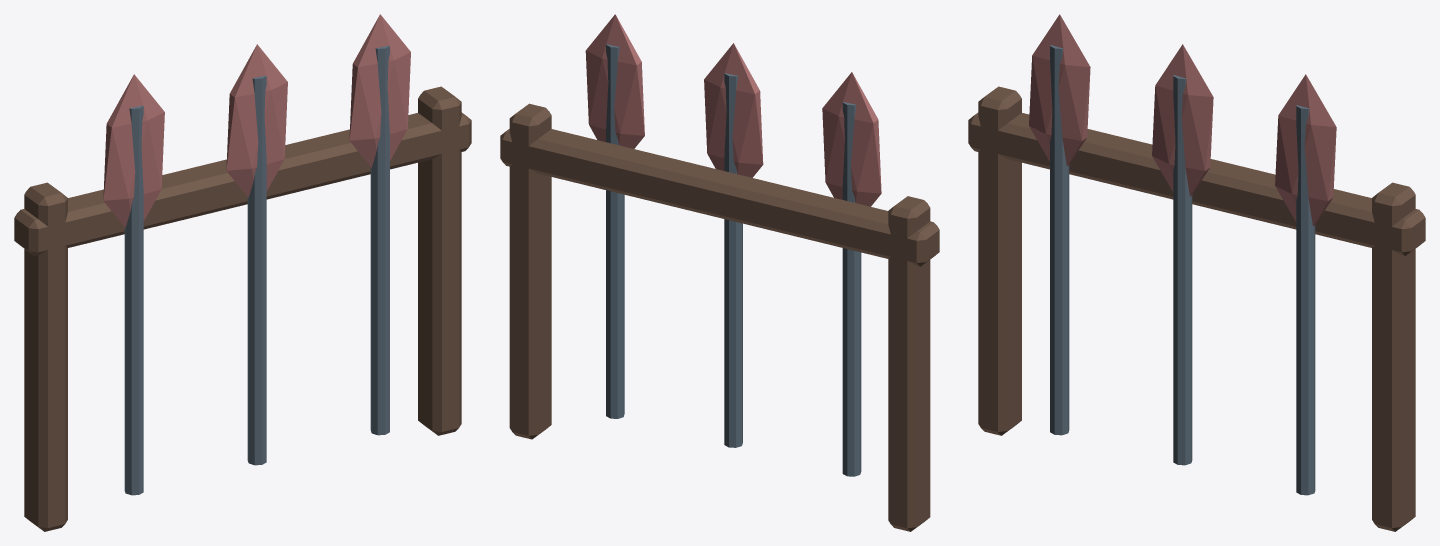
File: SH10_L08_WeaponRack.fbx
3 views of the same model, side by side, from view 1: azimuth 30°, elevation 25°; view 2: azimuth 150°, elevation 25°; view 3: azimuth 330°, elevation 25° (orthographic). The views are drawn at different scales.
Parts seen in each view (by area): view 1: SH10_L08_WeaponRack; view 2: SH10_L08_WeaponRack; view 3: SH10_L08_WeaponRack.
Boxes of the visible parts, left/top/right/bottom form: SH10_L08_WeaponRack: left=14, top=14, right=471, bottom=531; SH10_L08_WeaponRack: left=500, top=14, right=939, bottom=531; SH10_L08_WeaponRack: left=968, top=14, right=1425, bottom=531.
Size of the model in its own units: 180 by 172 by 21.
